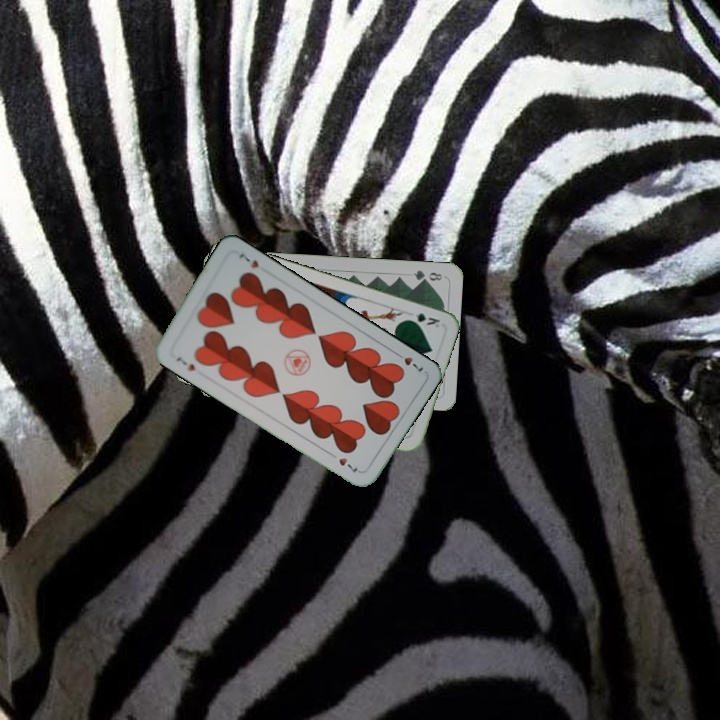G8: (410, 266, 445, 284)
GK: (403, 309, 442, 330)
H7: (390, 348, 426, 374), (172, 352, 198, 374)
